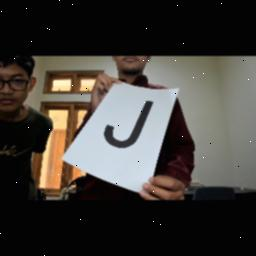j: (104, 93, 156, 153)
